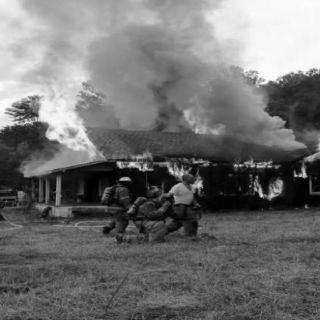Fire: (115, 125, 318, 199)
